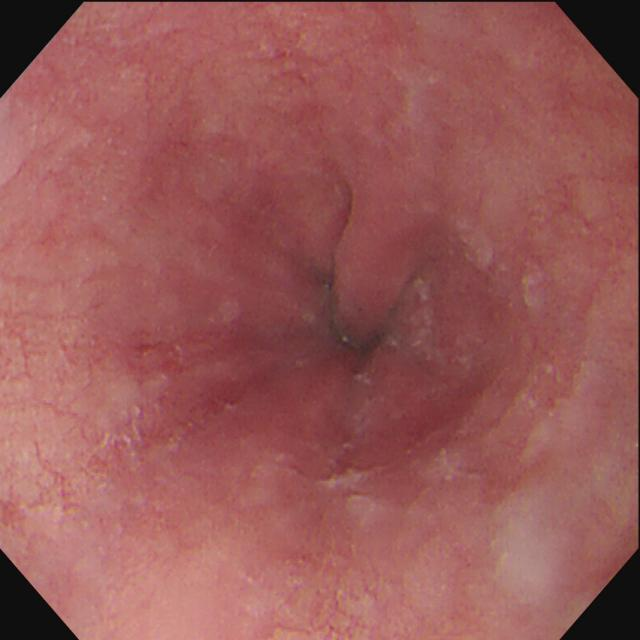I: (216, 126, 497, 464)
J: (320, 465, 387, 527), (460, 220, 500, 278), (413, 277, 440, 362)
